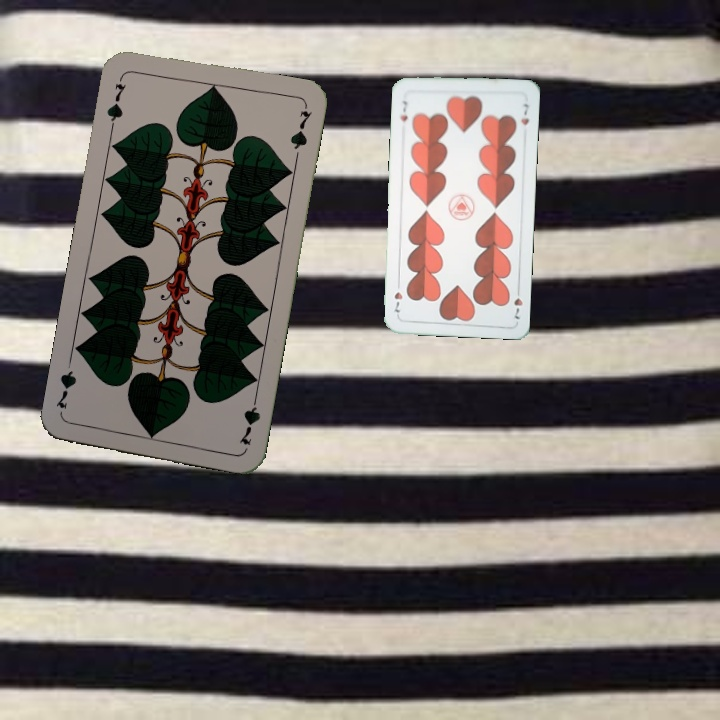G7: (235, 390, 263, 448), (103, 72, 129, 130)
H7: (510, 283, 525, 322), (396, 97, 410, 124)
